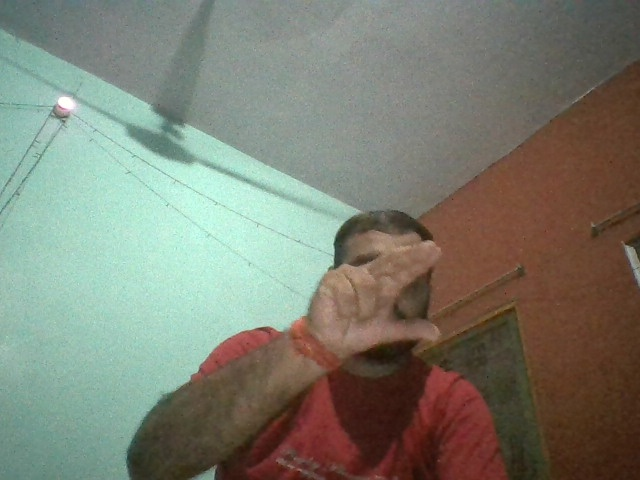no: (312, 242, 442, 344)
